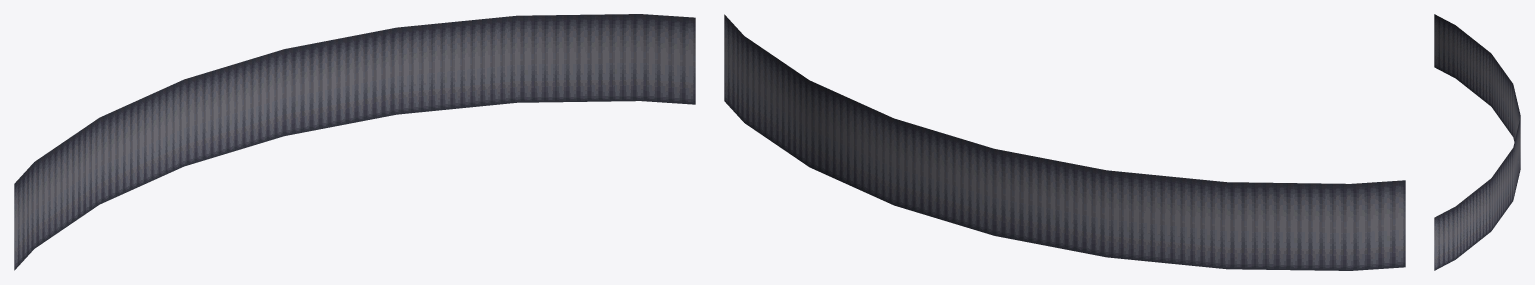
Rendered from yt1300_engine_s01_l0.fbx.
3 views of the same model, side by side, from view 1: azimuth 30°, elevation 25°; view 2: azimuth 150°, elevation 25°; view 3: azimuth 270°, elevation 25° (orthographic). The views are drawn at different scales.
Parts seen in each view (by area): view 1: mesh_node; view 2: mesh_node; view 3: mesh_node.
Part boxes in pixels (x1=…): mesh_node: x1=14, y1=14, x2=695, y2=270; mesh_node: x1=724, y1=14, x2=1405, y2=270; mesh_node: x1=1434, y1=14, x2=1520, y2=270.
Bounding box in the file's own units: 17.69 × 2.16 × 3.17.
Materials: 1 (1 with a texture image).
